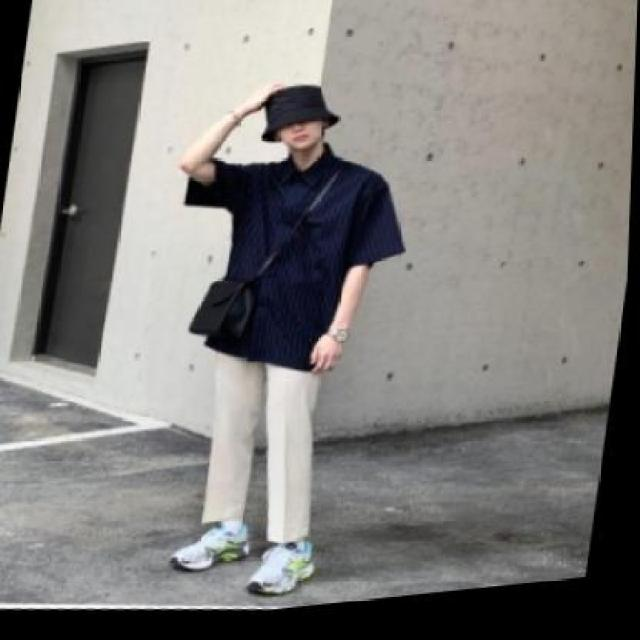hat: (252, 78, 348, 160)
